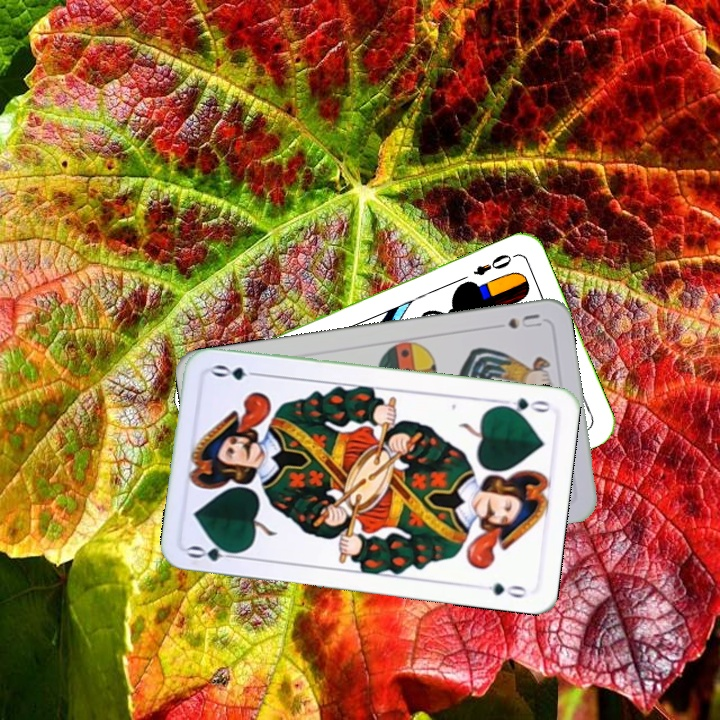EO: (469, 250, 519, 278)
GO: (184, 539, 244, 564), (494, 393, 553, 417)
SU: (486, 310, 545, 332)
